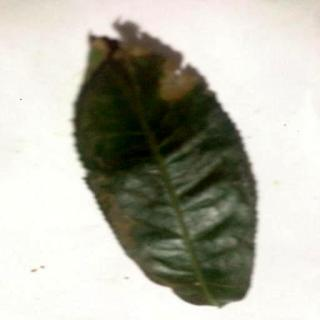Red Leaf Spot: (74, 34, 260, 309)
